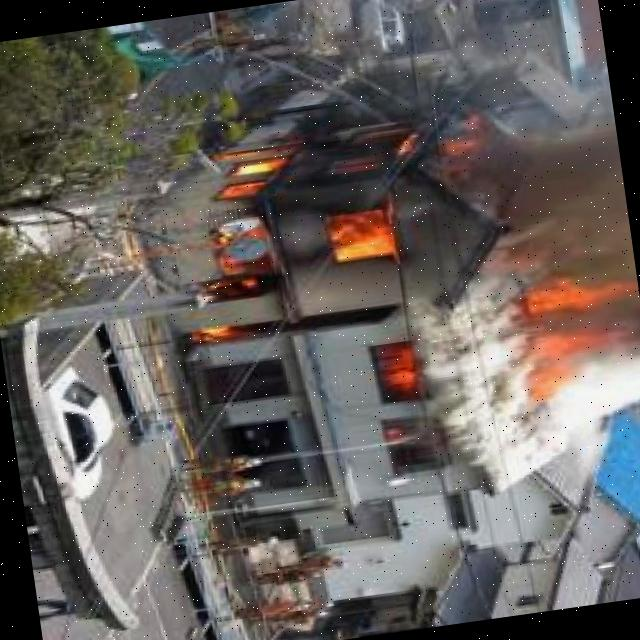fire: (147, 92, 516, 356), (510, 264, 640, 413), (365, 342, 431, 449)
